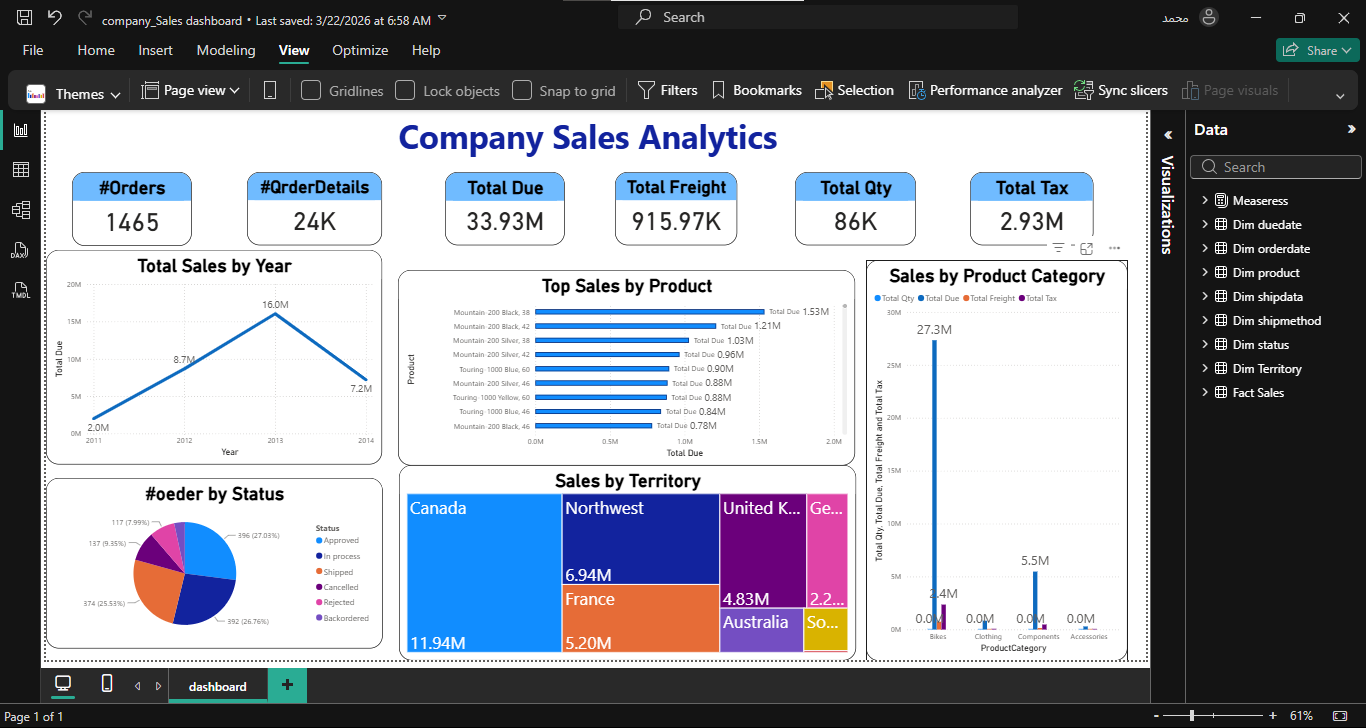

The page's visual inventory and layout, read from the dashboard file:
{"tool":"powerbi","page":{"name":"Page 1","canvas":[1800,900],"ordinal":0},"visuals":[{"type":"card","title":"#Orders","fields":{"Values":["Measeress.#oeder"]},"box":[43,100.9,196.3,121.5],"z":0},{"type":"card","title":"#QrderDetails","fields":{"Values":["Measeress.#Orderdetail"]},"box":[329,100.9,220.6,119.6],"z":1000},{"type":"card","title":"Total Due","fields":{"Values":["Measeress.Total Due"]},"box":[652.3,100.9,196.3,119.6],"z":2000},{"type":"card","title":"Total Freight","fields":{"Values":["Measeress.Total Freight"]},"box":[930.8,100.9,200,119.6],"z":3000},{"type":"card","title":"Total Qty","fields":{"Values":["Measeress.Total Qty"]},"box":[1226.2,100.9,198.1,119.6],"z":4000},{"type":"card","title":"Total Tax","fields":{"Values":["Measeress.Total Tax"]},"box":[1512.1,100.9,201.9,119.6],"z":5000},{"type":"lineChart","title":"Total Sales by Year","fields":{"Category":["Dim orderdate.OrderDate.Variation.Date Hierarchy.Year","Dim orderdate.OrderDate.Variation.Date Hierarchy.Quarter","Dim orderdate.OrderDate.Variation.Date Hierarchy.Month","Dim orderdate.OrderDate.Variation.Date Hierarchy.Day"],"Y":["Measeress.Total Due"]},"box":[0,229.9,549.5,351.4],"z":6000},{"type":"clusteredBarChart","title":"Top Sales by Product","fields":{"Category":["Dim product.Product"],"Y":["Measeress.Total Due"]},"box":[576.8,262.5,748.2,319.6],"z":7000},{"type":"clusteredColumnChart","title":"Sales by Product Category","fields":{"Category":["Dim product.ProductCategory"],"Y":["Measeress.Total Qty","Measeress.Total Due","Measeress.Total Freight","Measeress.Total Tax"]},"box":[1342.1,244.9,428,656.1],"z":8000},{"type":"treemap","title":"Sales by Territory","fields":{"Group":["Dim Territory.Territory"],"Values":["Measeress.Total Due"]},"box":[577.6,581.3,747.7,319.6],"z":9000},{"type":"pieChart","fields":{"Category":["Dim status.Status"],"Y":["Measeress.#oeder"]},"box":[0,601.9,551.4,278.5],"z":10000},{"type":"textbox","box":[383.2,0,1007.5,100.9],"z":11000}]}

Visuals, with their boxes on the page's 1800x900 design canvas (x1, y1, x2, y2). These are canvas units, not pixel positions in the 1366x728 screenshot, which may show the page scaled, cropped or inside an application window:
"#Orders" card: pyautogui.locateOnScreen(43, 101, 239, 222)
"#QrderDetails" card: pyautogui.locateOnScreen(329, 101, 550, 220)
"Total Due" card: pyautogui.locateOnScreen(652, 101, 849, 220)
"Total Freight" card: pyautogui.locateOnScreen(931, 101, 1131, 220)
"Total Qty" card: pyautogui.locateOnScreen(1226, 101, 1424, 220)
"Total Tax" card: pyautogui.locateOnScreen(1512, 101, 1714, 220)
"Total Sales by Year" lineChart: pyautogui.locateOnScreen(0, 230, 550, 581)
"Top Sales by Product" clusteredBarChart: pyautogui.locateOnScreen(577, 262, 1325, 582)
"Sales by Product Category" clusteredColumnChart: pyautogui.locateOnScreen(1342, 245, 1770, 901)
"Sales by Territory" treemap: pyautogui.locateOnScreen(578, 581, 1325, 901)
pieChart - Dim status.Status x Measeress.#oeder: pyautogui.locateOnScreen(0, 602, 551, 880)
textbox: pyautogui.locateOnScreen(383, 0, 1391, 101)
